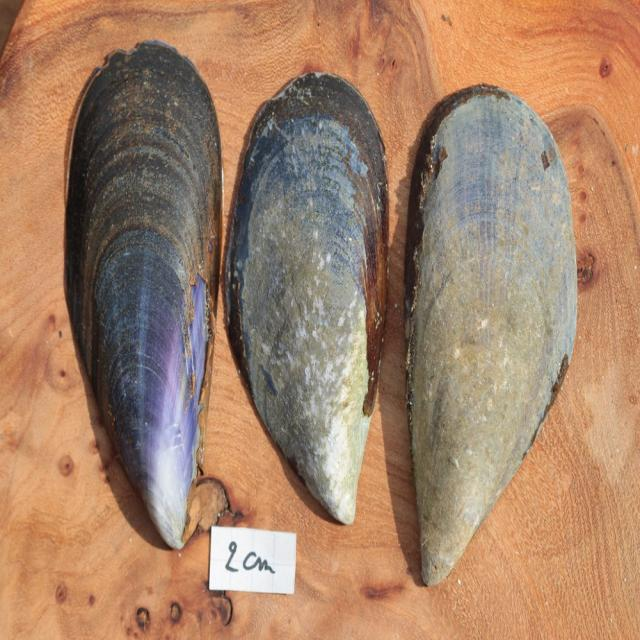Mytilus_galloprovincialis: (406, 91, 580, 574), (62, 36, 223, 554), (223, 60, 390, 548)
